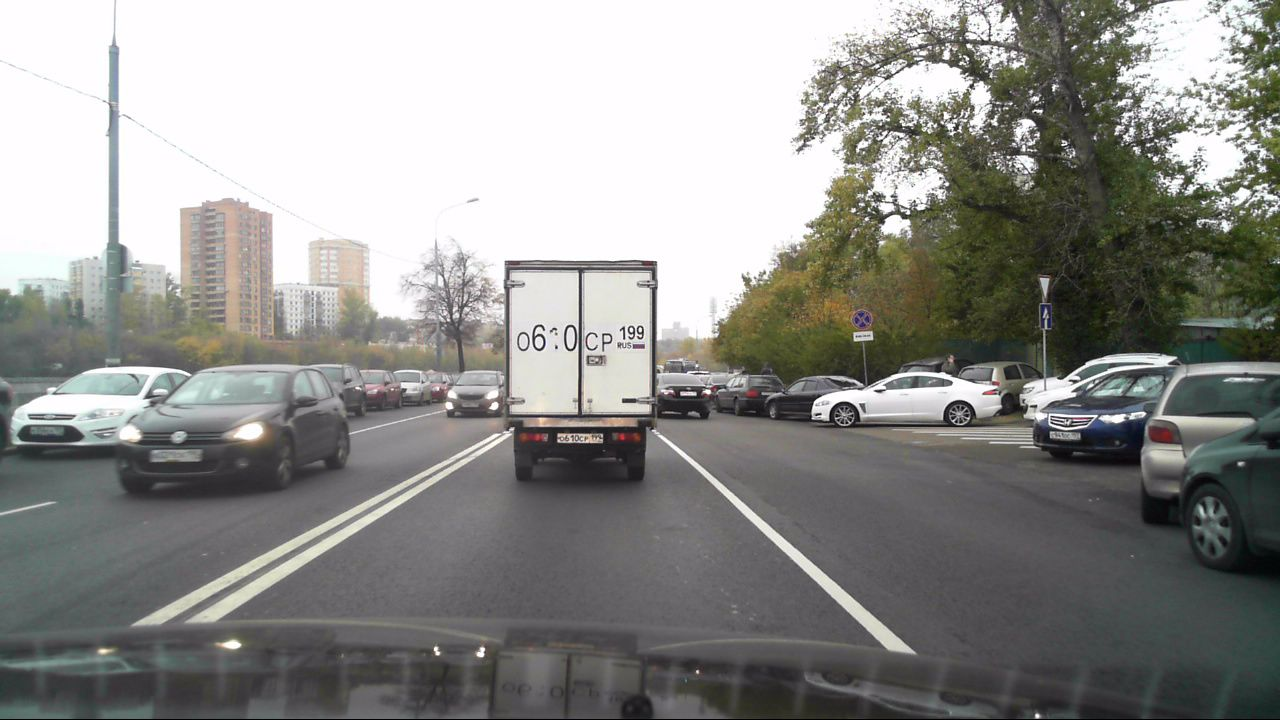No Parking: (851, 308, 873, 330)
